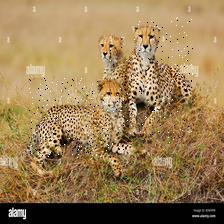Cheetha: (29, 78, 133, 159), (132, 18, 193, 146), (99, 31, 131, 88)
